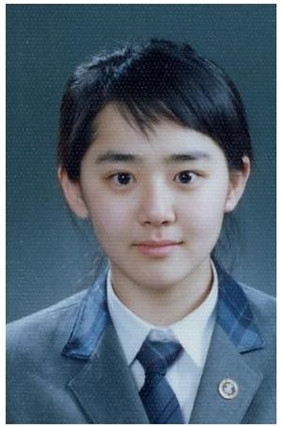unmask: (84, 116, 229, 280)
